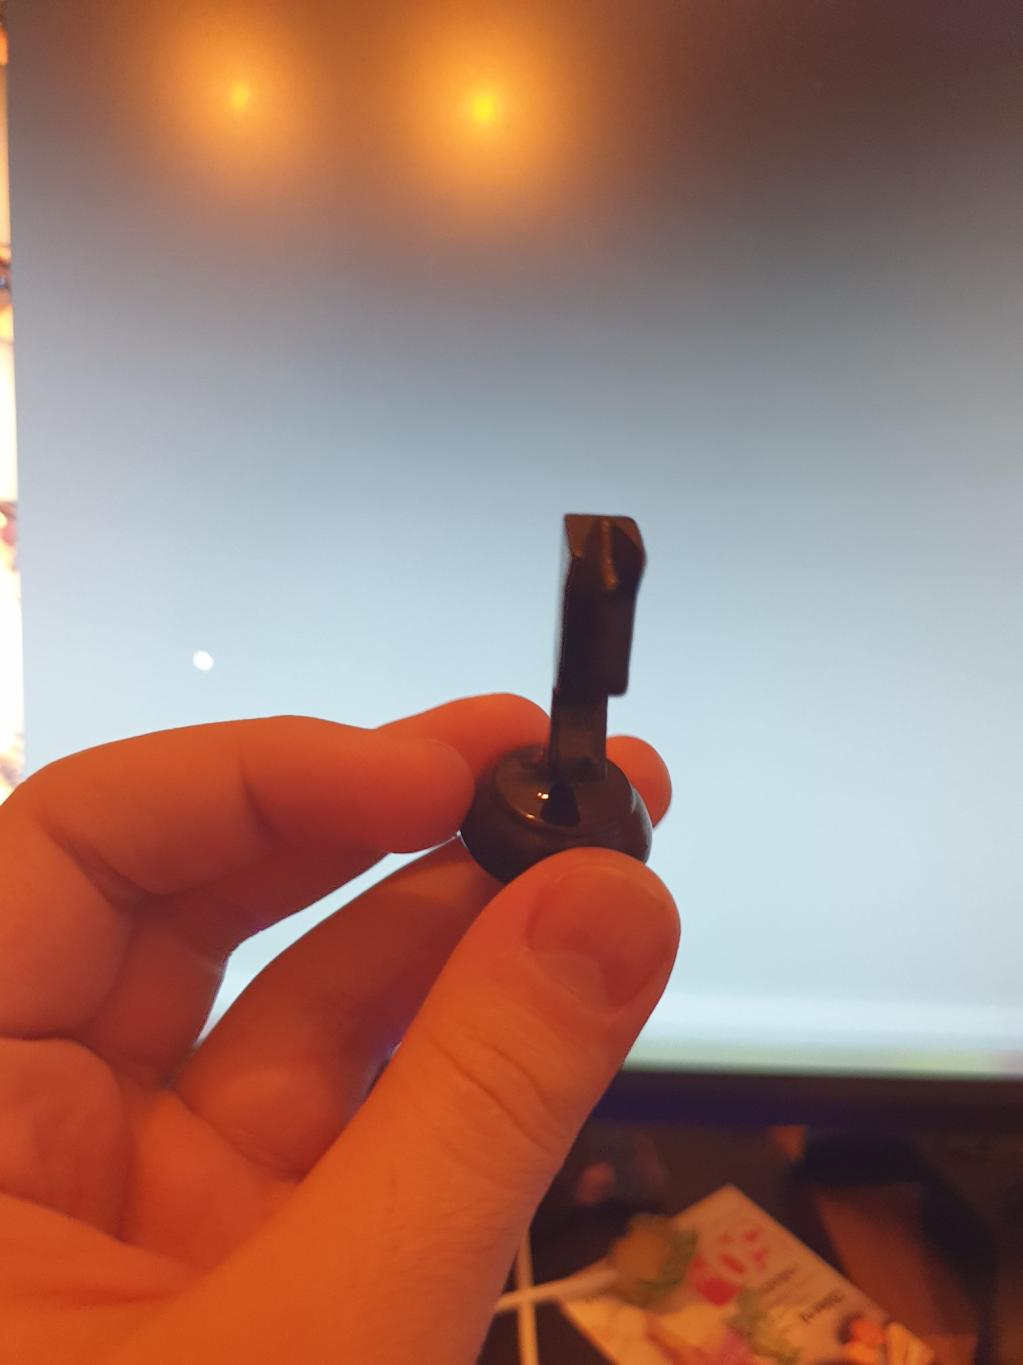bknight: (459, 508, 653, 893)
